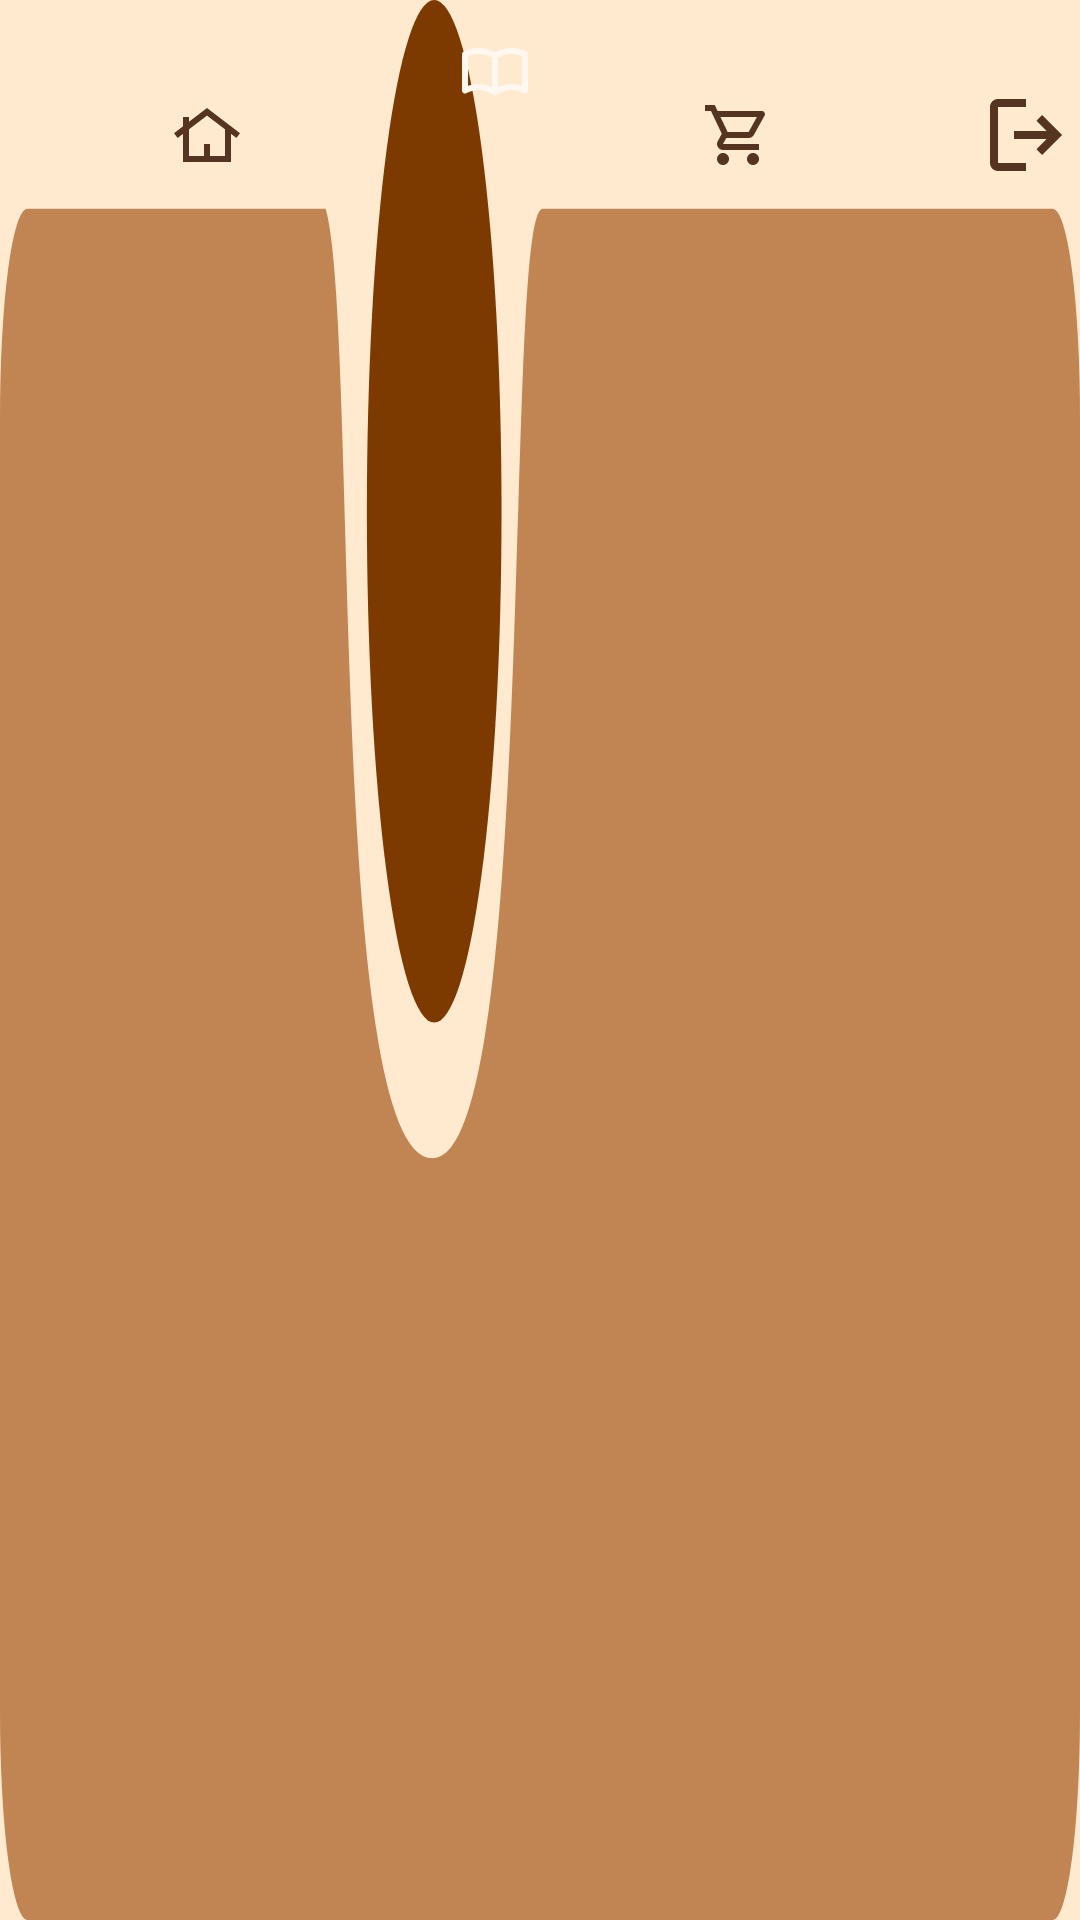

Screen size 1080 x 1920. Icon name, then its center in pixels as (x=x, y=y):
Books: (x=493, y=72)
Home: (x=207, y=135)
Stores: (x=735, y=135)
